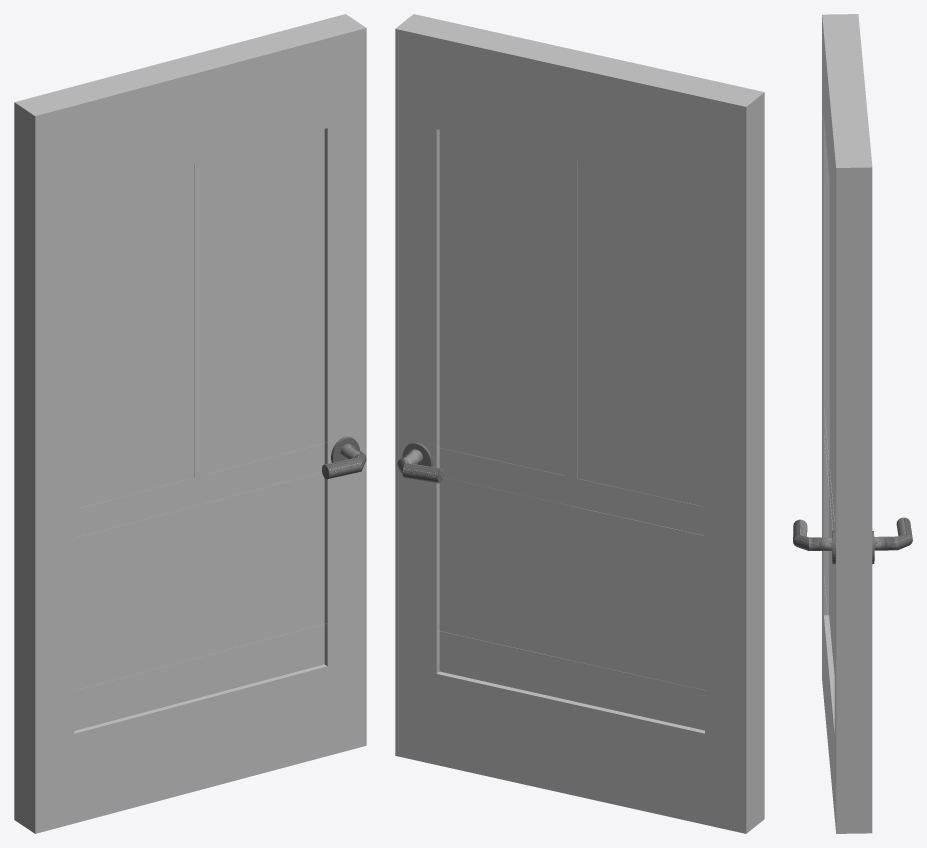
The model's file is TexturedDoorOne.fbx.
3 renders of one model, left to right at view 1: azimuth 30°, elevation 25°; view 2: azimuth 150°, elevation 25°; view 3: azimuth 270°, elevation 25°, orthographic. The views are drawn at different scales.
Visible parts, largest first — view 1: door.002, handke; view 2: door.002, handle 3; view 3: door.002, handke, handle 3.
Boxes of the visible parts, x1=… form: door.002: x1=14, y1=14, x2=366, y2=833; handke: x1=322, y1=436, x2=366, y2=479; door.002: x1=395, y1=14, x2=764, y2=833; handle 3: x1=397, y1=442, x2=444, y2=483; door.002: x1=822, y1=14, x2=872, y2=833; handke: x1=793, y1=519, x2=835, y2=564; handle 3: x1=872, y1=517, x2=912, y2=563.
Bounding box in the file's own units: 102 × 206 × 33.66.
